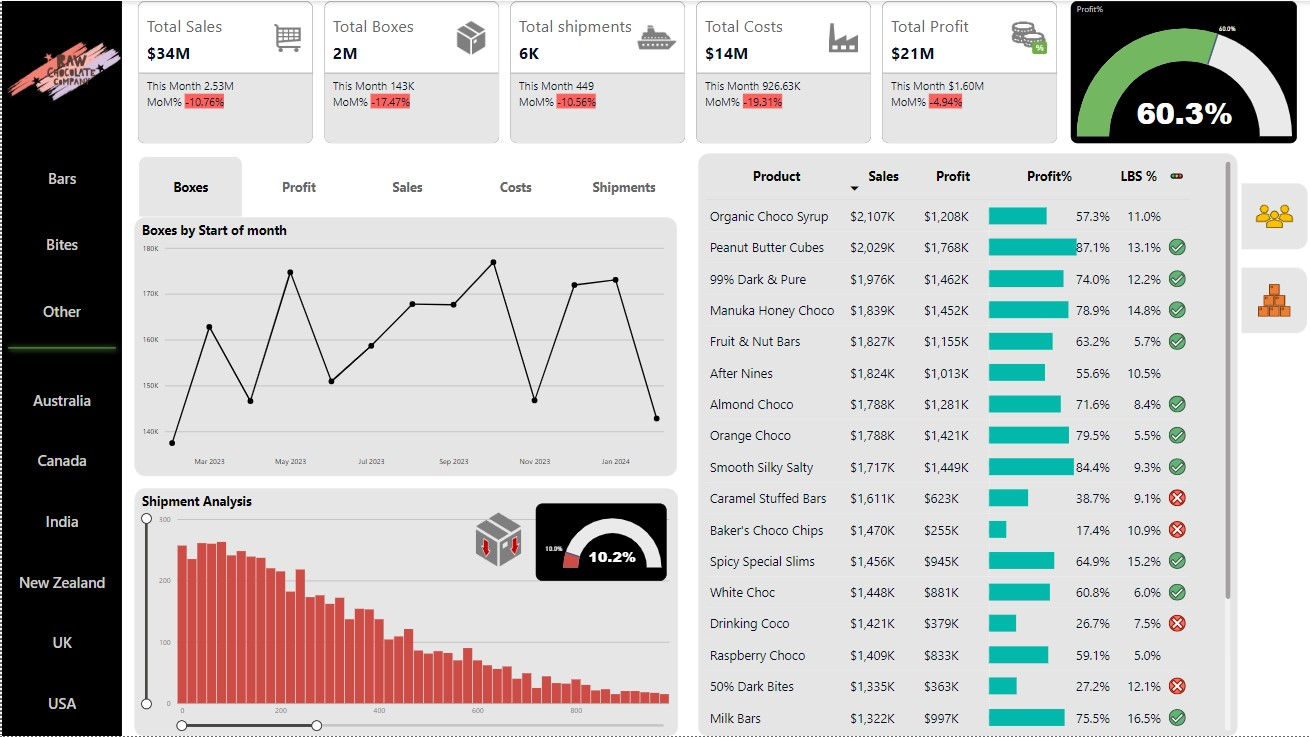

This screenshot's page, from the dashboard's own definition file:
{"tool":"powerbi","page":{"name":"Page 2","canvas":[1920,1080],"ordinal":0},"visuals":[{"type":"shape","box":[0,0,176.1,1080.4],"z":0},{"type":"cardVisual","fields":{"Data":["_Measures.Total Sales","_Measures.Total Boxes","_Measures.Total shipments","_Measures.Total Costs","_Measures.Total Profit"]},"box":[194.4,0,1359.2,209.1],"z":1000},{"type":"gauge","fields":{"Y":["_Measures.Profit%"]},"box":[1568.3,0,332,209.1],"z":2000},{"type":"image","box":[0,0,194.4,209.1],"z":3000},{"type":"lineChart","fields":{"Y":["_Measures.Total Boxes"],"Category":["Calender Table.Start of month"]},"box":[194.4,317.3,796.1,379.7],"z":4000},{"type":"advancedSlicerVisual","fields":{"Values":["Measure Selector.Measure Selector"]},"box":[196.3,223.8,797.9,93.5],"z":5000},{"type":"columnChart","title":"Shipment Analysis","fields":{"Category":["shipments.Boxes (bins)"],"Y":["_Measures.Total shipments"]},"box":[194.4,715.4,797.9,365],"z":6000},{"type":"gauge","fields":{"Y":["_Measures.LBS %"]},"box":[783.2,737.2,191.8,113.9],"z":7000},{"type":"image","box":[675.3,737.2,107.9,105.9],"z":8000},{"type":"tableEx","title":" Product Table","fields":{"Values":["products.Product","_Measures.Total Sales","_Measures.Total Profit","_Measures.Profit%","_Measures.LBS %","_Measures.Profit Target Indicator"]},"box":[1022.2,223.4,791.3,856.5],"z":10000},{"type":"advancedSlicerVisual","fields":{"Values":["products.Category"]},"box":[0,209.1,176.1,299],"z":11000},{"type":"advancedSlicerVisual","fields":{"Values":["locations.Geo"]},"box":[0,539.3,176.1,541.1],"z":12000},{"type":"shape","box":[0,451.2,176.1,115.6],"z":13000},{"type":"image","title":"People Image","box":[1813.3,253.8,106.3,125.8],"z":14000},{"type":"image","title":"Product Image","box":[1813.5,370.5,106.1,137.8],"z":15000}]}

Visuals, with their boxes in screenshot pixels (x1, y1, x2, y2), scaled from the page's 1920x1080 canvas onto the 1310x737 screenshot:
shape: {"left": 0, "top": 0, "right": 120, "bottom": 736}
cardVisual - _Measures.Total Sales x _Measures.Total Boxes: {"left": 133, "top": 0, "right": 1060, "bottom": 143}
gauge - _Measures.Profit%: {"left": 1070, "top": 0, "right": 1297, "bottom": 143}
image: {"left": 0, "top": 0, "right": 133, "bottom": 143}
lineChart - _Measures.Total Boxes x Calender Table.Start of month: {"left": 133, "top": 217, "right": 676, "bottom": 476}
advancedSlicerVisual - Measure Selector.Measure Selector: {"left": 134, "top": 153, "right": 678, "bottom": 217}
"Shipment Analysis" columnChart: {"left": 133, "top": 488, "right": 677, "bottom": 736}
gauge - _Measures.LBS %: {"left": 534, "top": 503, "right": 665, "bottom": 581}
image: {"left": 461, "top": 503, "right": 534, "bottom": 575}
" Product Table" tableEx: {"left": 697, "top": 152, "right": 1237, "bottom": 736}
advancedSlicerVisual - products.Category: {"left": 0, "top": 143, "right": 120, "bottom": 347}
advancedSlicerVisual - locations.Geo: {"left": 0, "top": 368, "right": 120, "bottom": 736}
shape: {"left": 0, "top": 308, "right": 120, "bottom": 387}
"People Image" image: {"left": 1237, "top": 173, "right": 1309, "bottom": 259}
"Product Image" image: {"left": 1237, "top": 253, "right": 1309, "bottom": 347}
